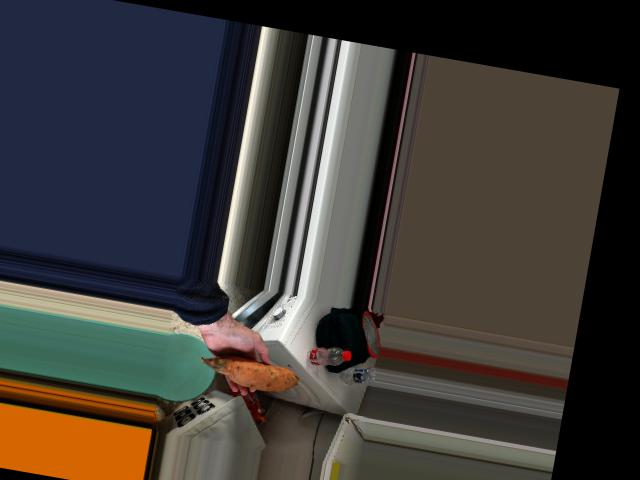sweet_potato: (218, 348, 309, 396)
